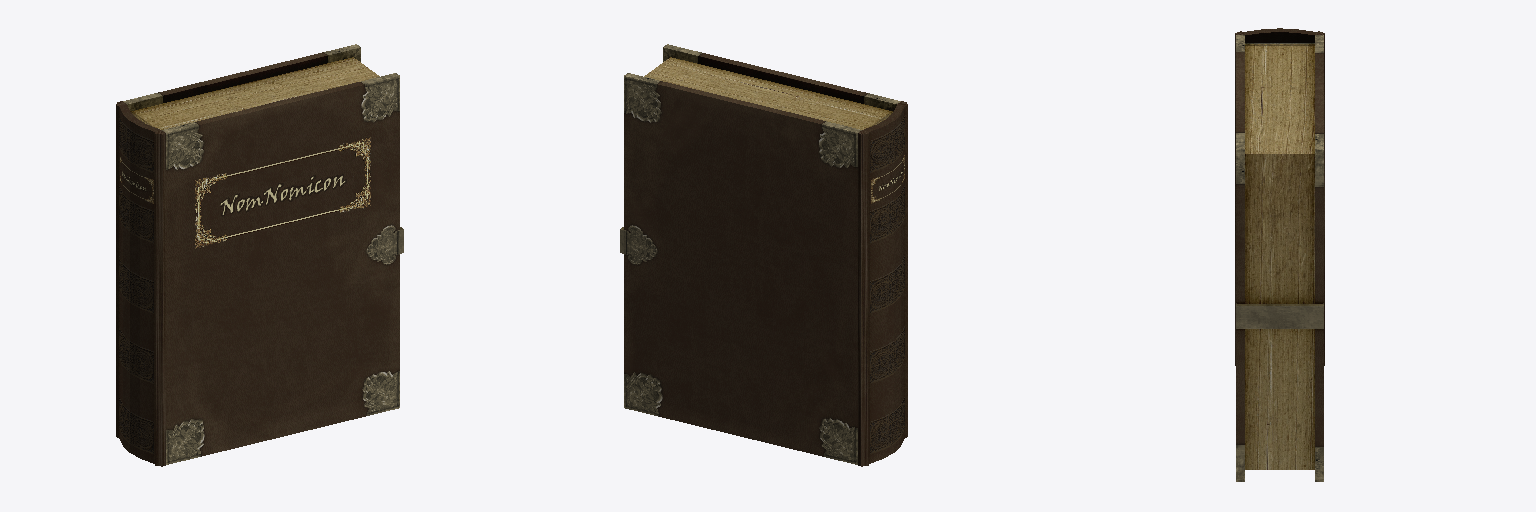
3 views of the same model, side by side, from view 1: azimuth 30°, elevation 25°; view 2: azimuth 150°, elevation 25°; view 3: azimuth 270°, elevation 25° (orthographic).
Visible parts, largest first — view 1: Default; view 2: Default; view 3: Default.
Boxes of the visible parts, x1,y1,x2,y2 form: Default: [116, 44, 403, 466]; Default: [620, 44, 907, 466]; Default: [1235, 28, 1324, 481].
Bounding box in the file's own units: 0.3343 × 0.42 × 0.1034.
Materials: 1 (1 with a texture image).